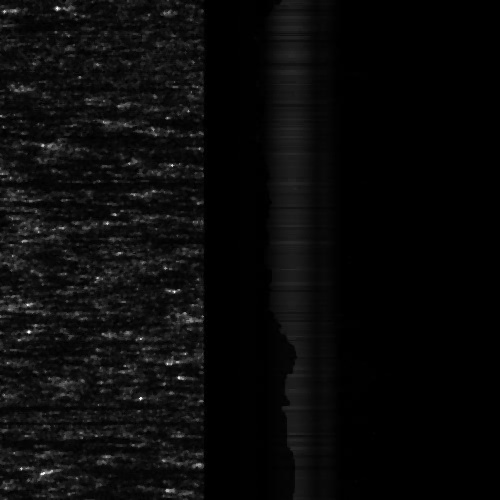object: (0, 329, 43, 346), (2, 81, 65, 90)
shadow: (33, 81, 219, 90), (0, 329, 78, 346), (0, 416, 150, 421), (0, 418, 139, 423)
